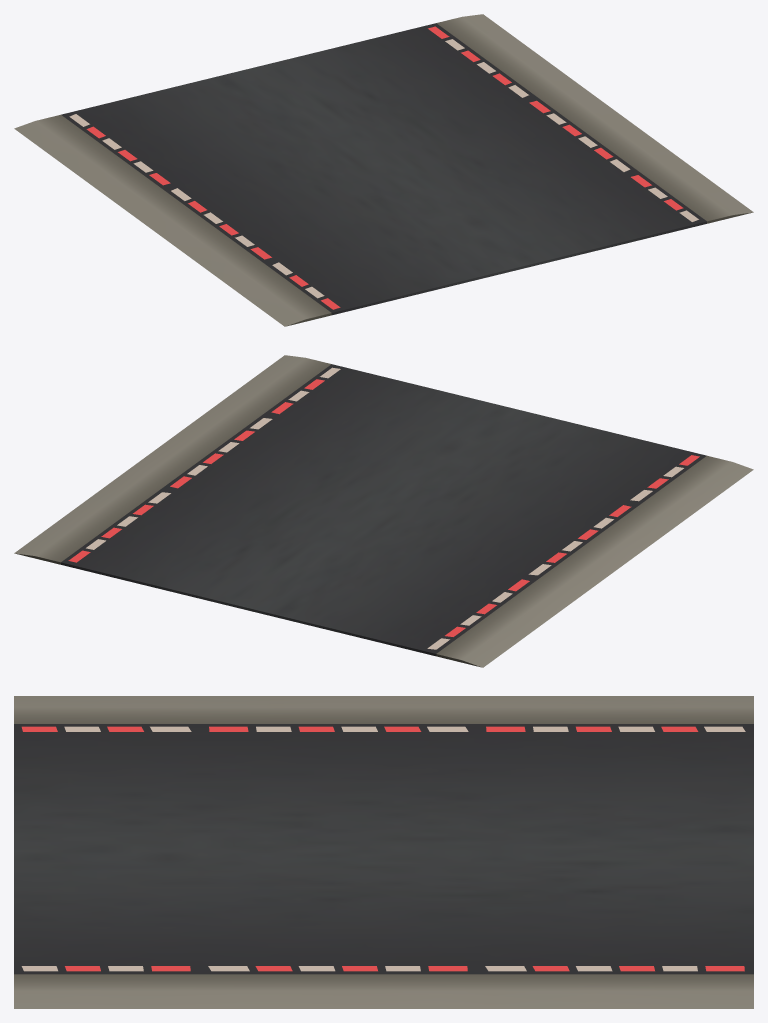
The model's file is Straight_1D.glb.
3 renders of one model, top to bottom at view 1: azimuth 30°, elevation 25°; view 2: azimuth 150°, elevation 25°; view 3: azimuth 270°, elevation 25°, orthographic. The views are drawn at different scales.
Visible parts, largest first — view 1: Straight_1D; view 2: Straight_1D; view 3: Straight_1D.
Boxes of the visible parts, bbox=[...] form: Straight_1D: bbox=[14, 14, 753, 326]; Straight_1D: bbox=[14, 355, 753, 667]; Straight_1D: bbox=[14, 696, 753, 1008].
Bounding box in the file's own units: 20 × 0.104 × 20.
Materials: 1 (1 with a texture image).
